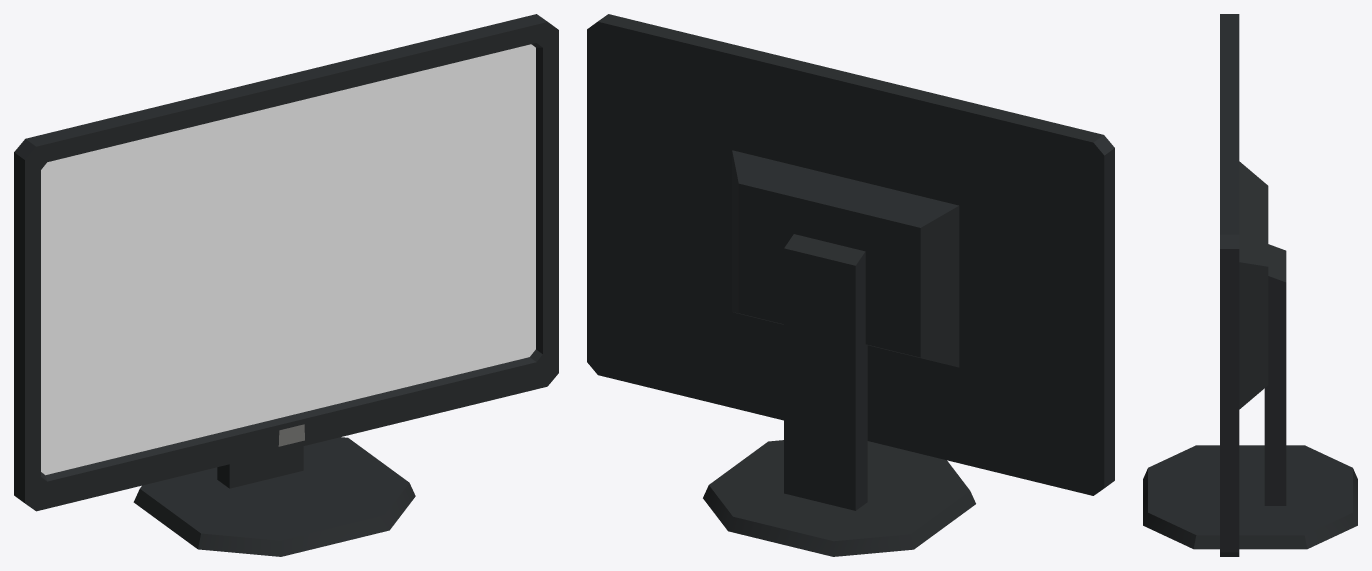
File: SM_Prop_Computer_Monitor_01-broken.obj
3 views of the same model, side by side, from view 1: azimuth 30°, elevation 25°; view 2: azimuth 150°, elevation 25°; view 3: azimuth 270°, elevation 25° (orthographic). The views are drawn at different scales.
Visible parts, largest first — view 1: SM_Prop_Computer_Monitor_01-broken_M_PolygonOffice_Screen_06-off, SM_Prop_Computer_Monitor_01-broken_M_PolygonOffice_01_A; view 2: SM_Prop_Computer_Monitor_01-broken_M_PolygonOffice_01_A; view 3: SM_Prop_Computer_Monitor_01-broken_M_PolygonOffice_01_A.
Boxes of the visible parts, bbox=[...] form: SM_Prop_Computer_Monitor_01-broken_M_PolygonOffice_Screen_06-off: bbox=[41, 44, 535, 475]; SM_Prop_Computer_Monitor_01-broken_M_PolygonOffice_01_A: bbox=[14, 14, 558, 556]; SM_Prop_Computer_Monitor_01-broken_M_PolygonOffice_01_A: bbox=[587, 14, 1114, 556]; SM_Prop_Computer_Monitor_01-broken_M_PolygonOffice_01_A: bbox=[1143, 14, 1357, 556].
Bounding box in the file's own units: 0.6589 × 0.5043 × 0.2595.
2 materials, 1 textured.
